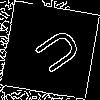U: (25, 25, 84, 81)
